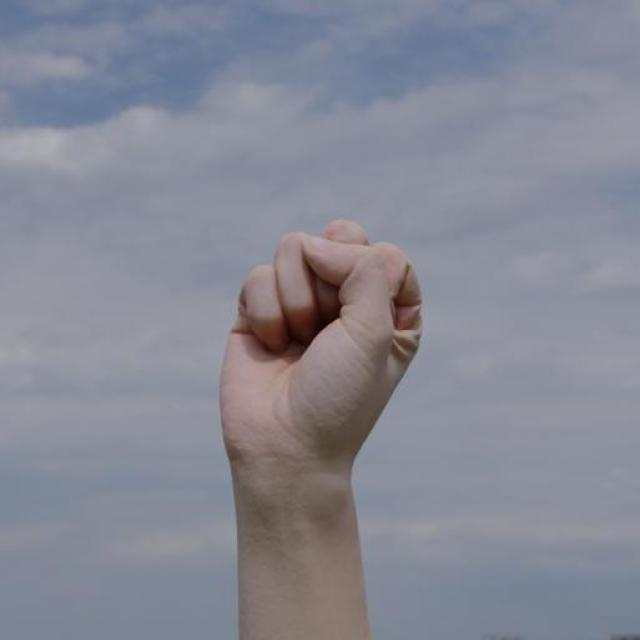S: (214, 212, 428, 478)
